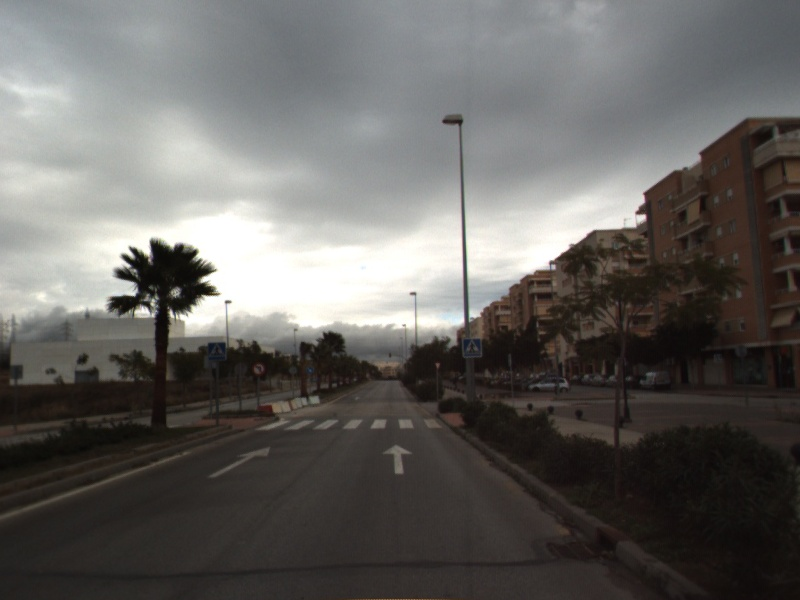STRAIGHT: (206, 445, 272, 480), (380, 442, 415, 476)
